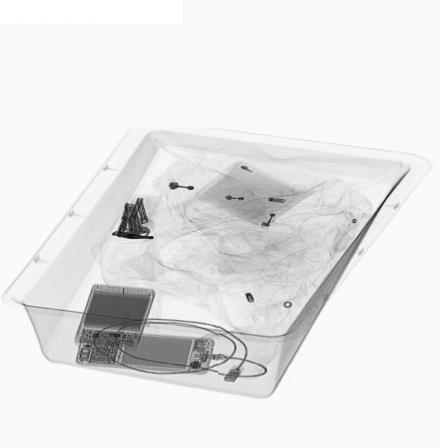Powerbank: (74, 284, 160, 350)
